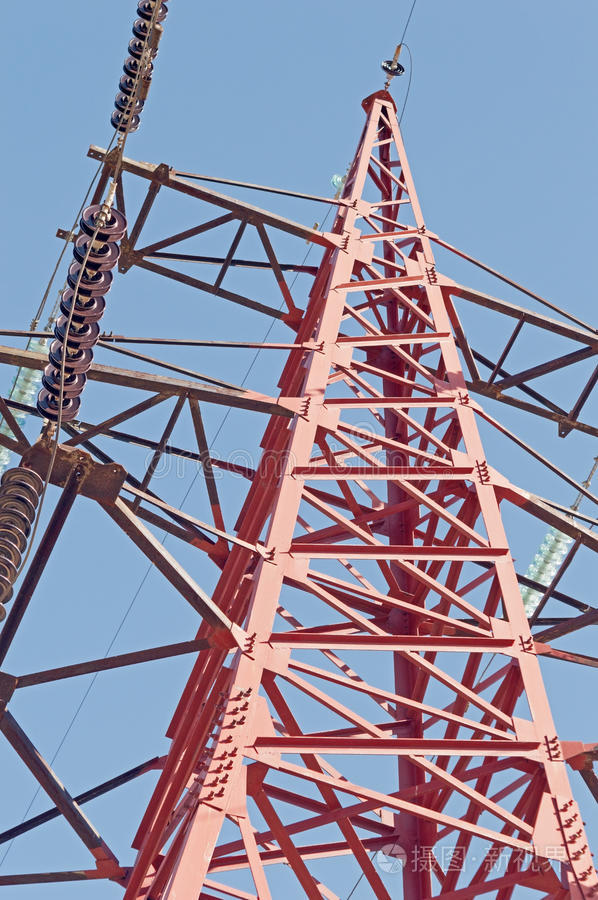insulator: (39, 196, 124, 425), (104, 1, 169, 130), (1, 464, 45, 613), (516, 523, 570, 616), (8, 336, 46, 438)
